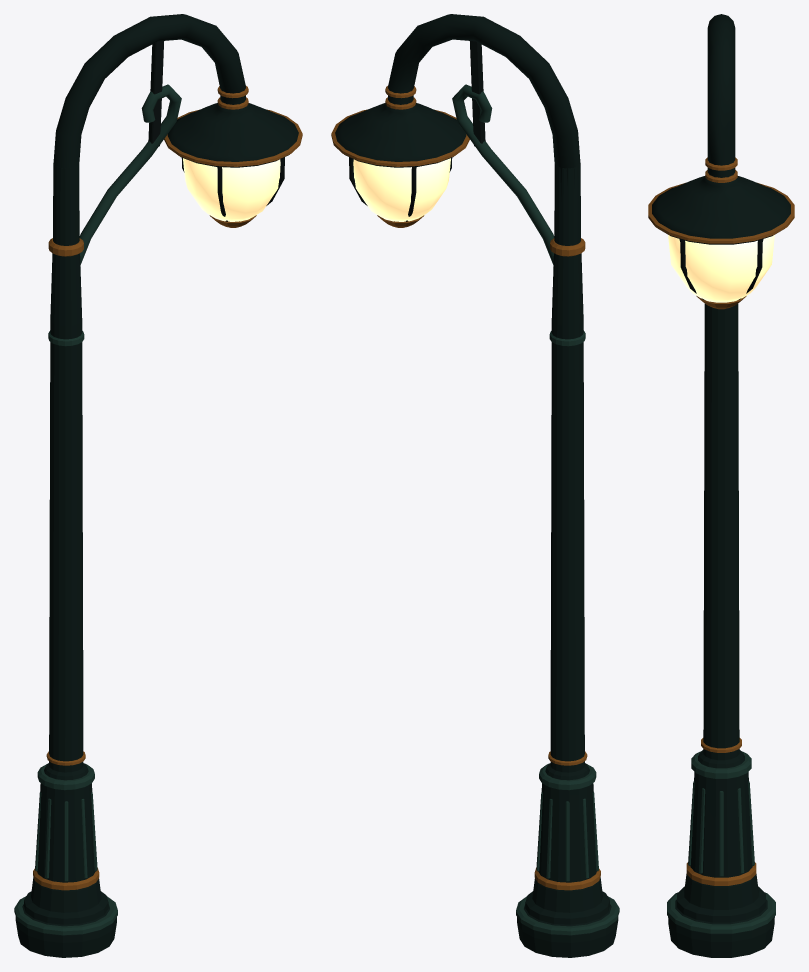
Rendered from SM_VillageStreetLamp.fbx.
3 renders of one model, left to right at view 1: azimuth 30°, elevation 25°; view 2: azimuth 150°, elevation 25°; view 3: azimuth 270°, elevation 25°, orthographic. The views are drawn at different scales.
Visible parts, largest first — view 1: SM_VillageStreetLamp; view 2: SM_VillageStreetLamp; view 3: SM_VillageStreetLamp.
Part boxes in pixels (left/top/right/bottom): SM_VillageStreetLamp: left=14, top=14, right=302, bottom=957; SM_VillageStreetLamp: left=331, top=14, right=619, bottom=957; SM_VillageStreetLamp: left=648, top=14, right=794, bottom=957.
Size of what is drawn, in the model's own units: 123 by 54.13 by 391.
